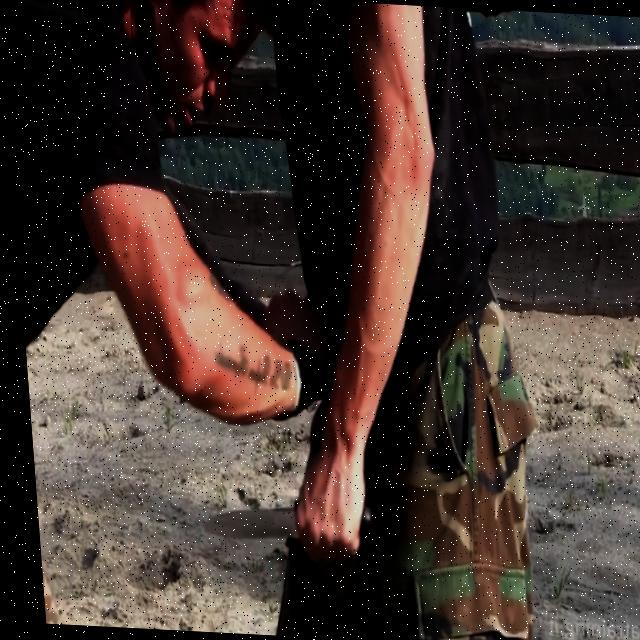knife: (193, 502, 290, 542)
